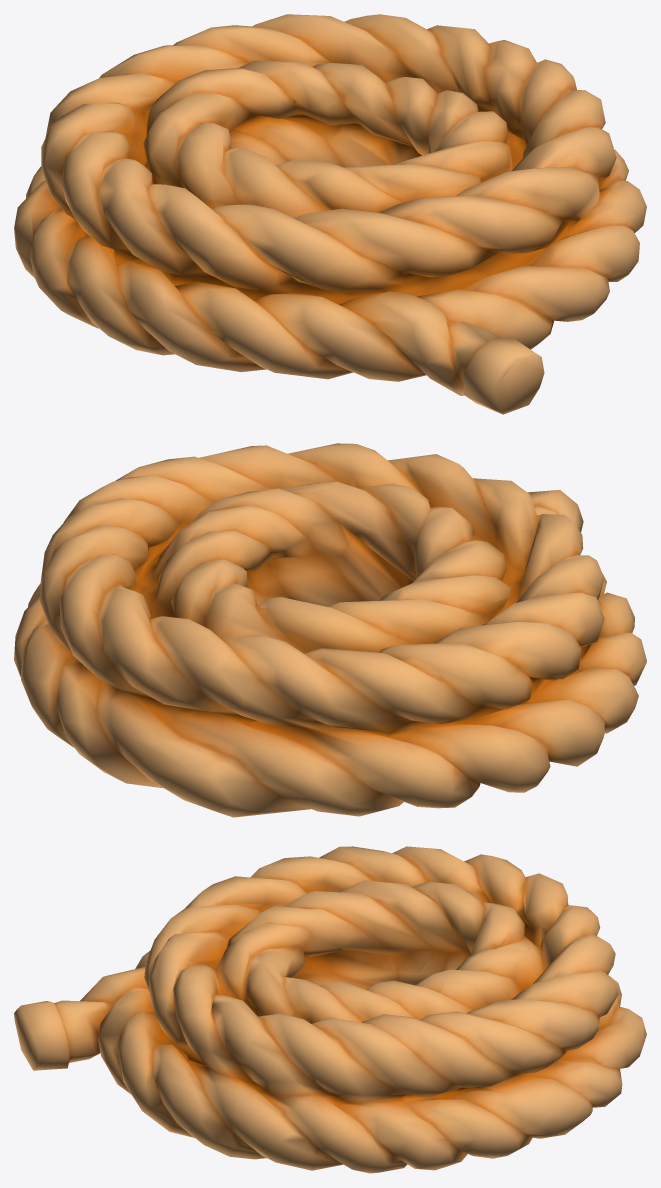
The model's file is ropecoil.glb.
The picture shows the model from 3 angles, top to bottom: view 1: azimuth 30°, elevation 25°; view 2: azimuth 150°, elevation 25°; view 3: azimuth 270°, elevation 25°; orthographic projection. The views are drawn at different scales.
Parts seen in each view (by area): view 1: ropecoil; view 2: ropecoil; view 3: ropecoil.
Boxes of the visible parts, x1,y1,x2,y2 form: ropecoil: (14, 14, 646, 414); ropecoil: (14, 443, 646, 817); ropecoil: (14, 846, 646, 1173).
Bounding box in the file's own units: 1.7 × 0.4571 × 1.93.
1 material, 1 textured.
